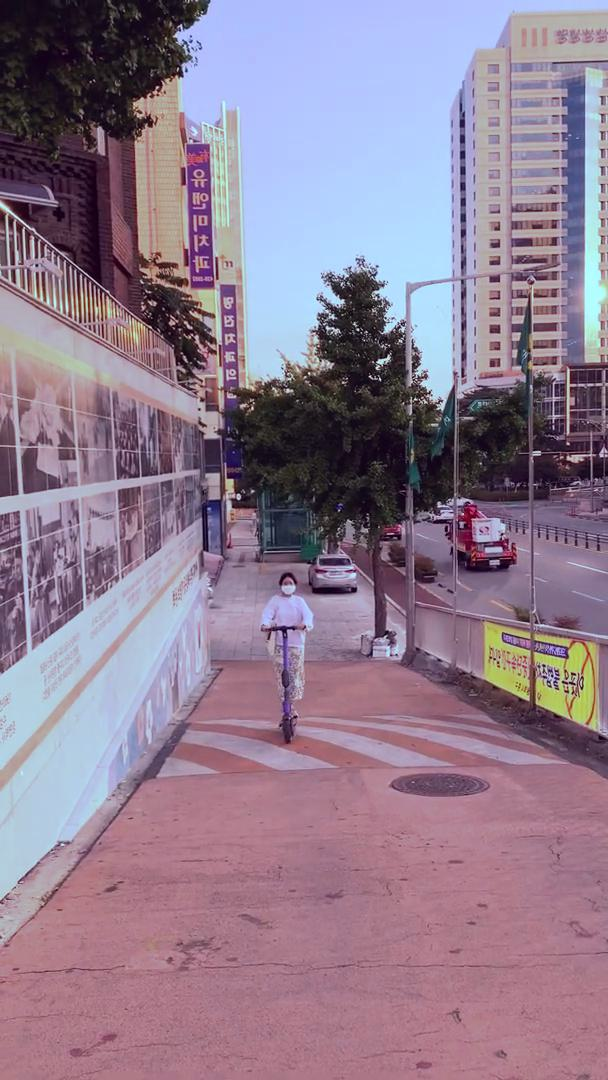nonhelmet: (257, 567, 318, 747)
